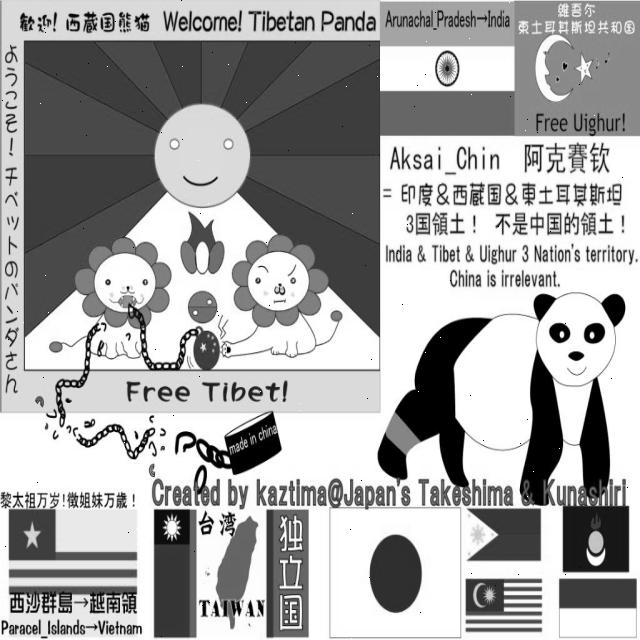panda: (376, 289, 626, 503)
